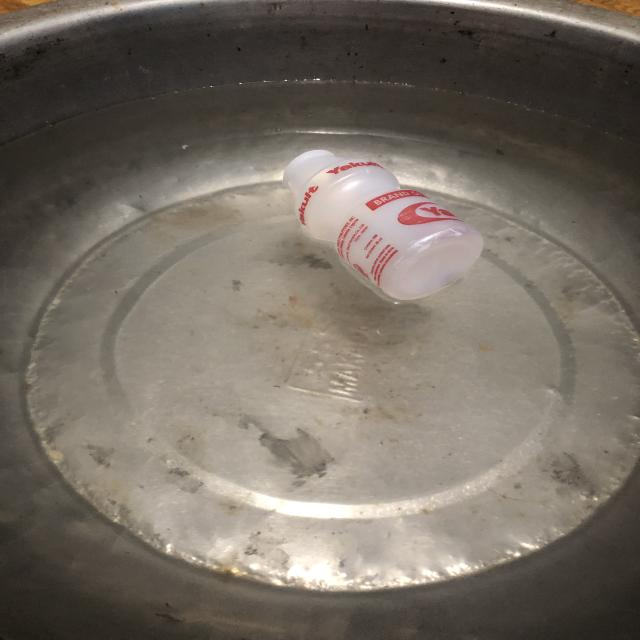Plastic Bottle: (274, 140, 496, 317)
